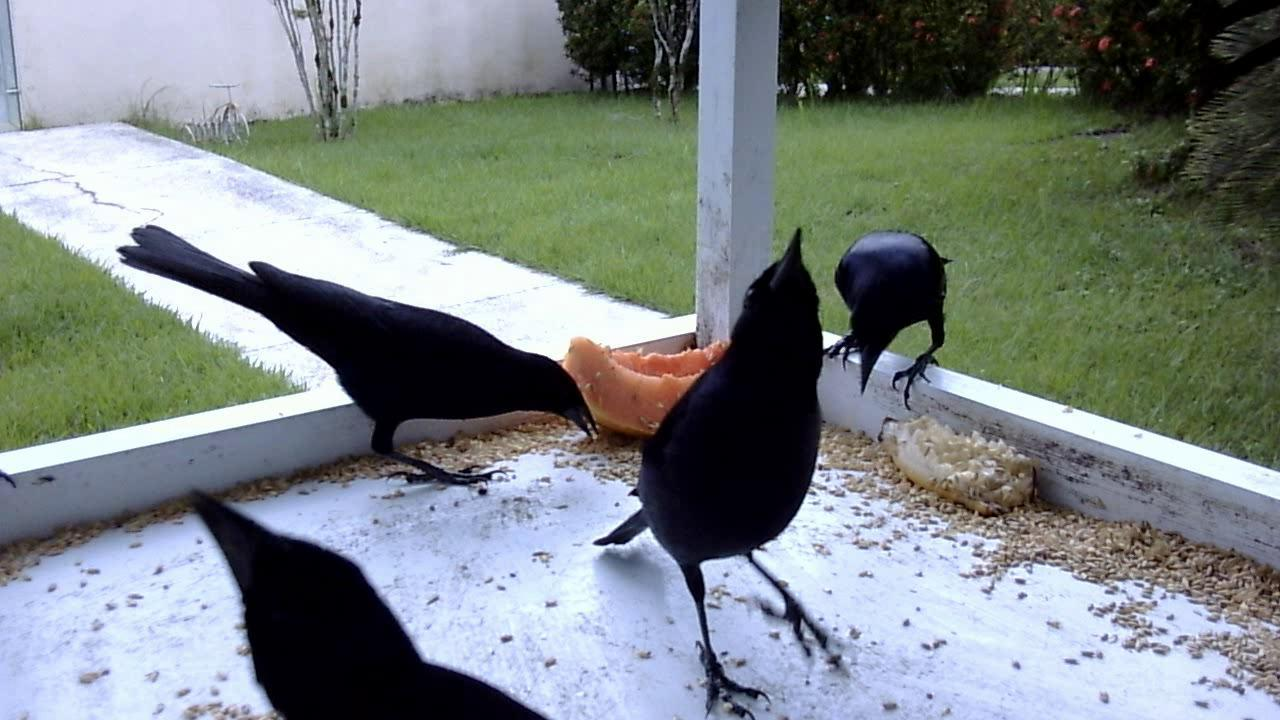chupim: (111, 213, 602, 492), (596, 224, 840, 720), (183, 487, 560, 720), (816, 225, 961, 422)
